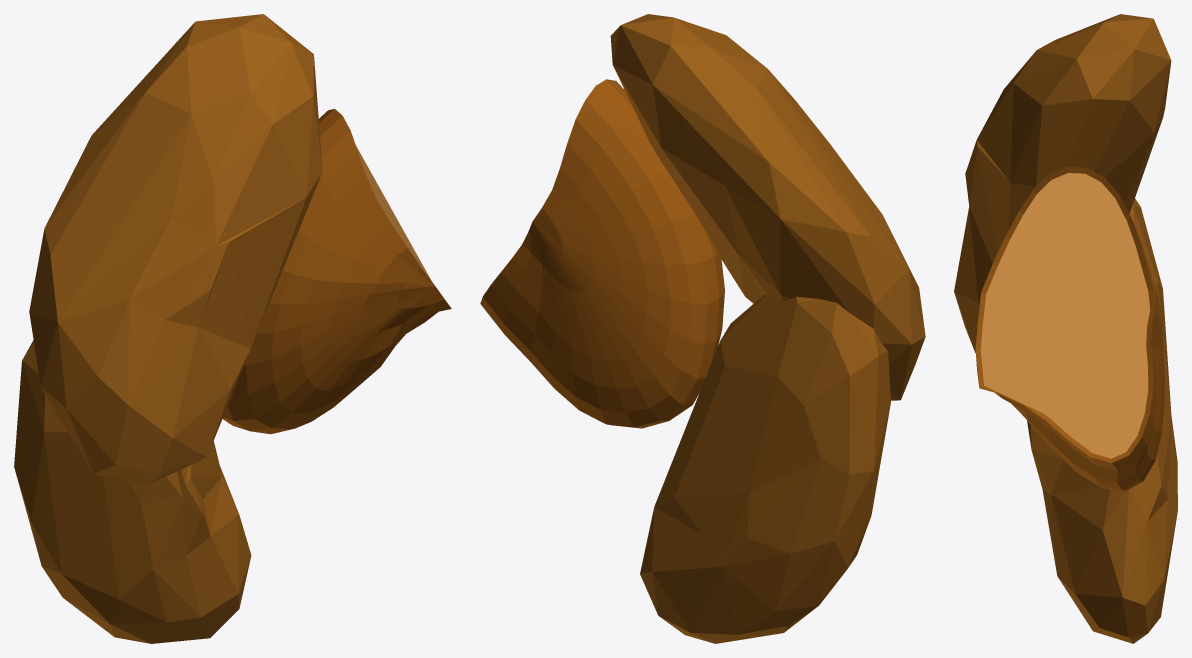
File: Bread.fbx
The picture shows the model from 3 angles, left to right: view 1: azimuth 30°, elevation 25°; view 2: azimuth 150°, elevation 25°; view 3: azimuth 270°, elevation 25°; orthographic projection. The views are drawn at different scales.
Visible parts, largest first — view 1: Bread.001, Bread, Bread.002; view 2: Bread, Bread.002, Bread.001; view 3: Bread.002, Bread.001, Bread.
Part boxes in pixels (<box>): Bread.001: <box>29,14,322,485</box>; Bread: <box>14,340,251,643</box>; Bread.002: <box>222,108,451,434</box>; Bread: <box>640,294,890,643</box>; Bread.002: <box>480,79,724,428</box>; Bread.001: <box>610,14,925,400</box>; Bread.002: <box>975,167,1164,491</box>; Bread.001: <box>954,14,1171,352</box>; Bread: <box>1027,198,1177,643</box>.
Bounding box in the file's own units: 36.54 × 52.58 × 16.76.
